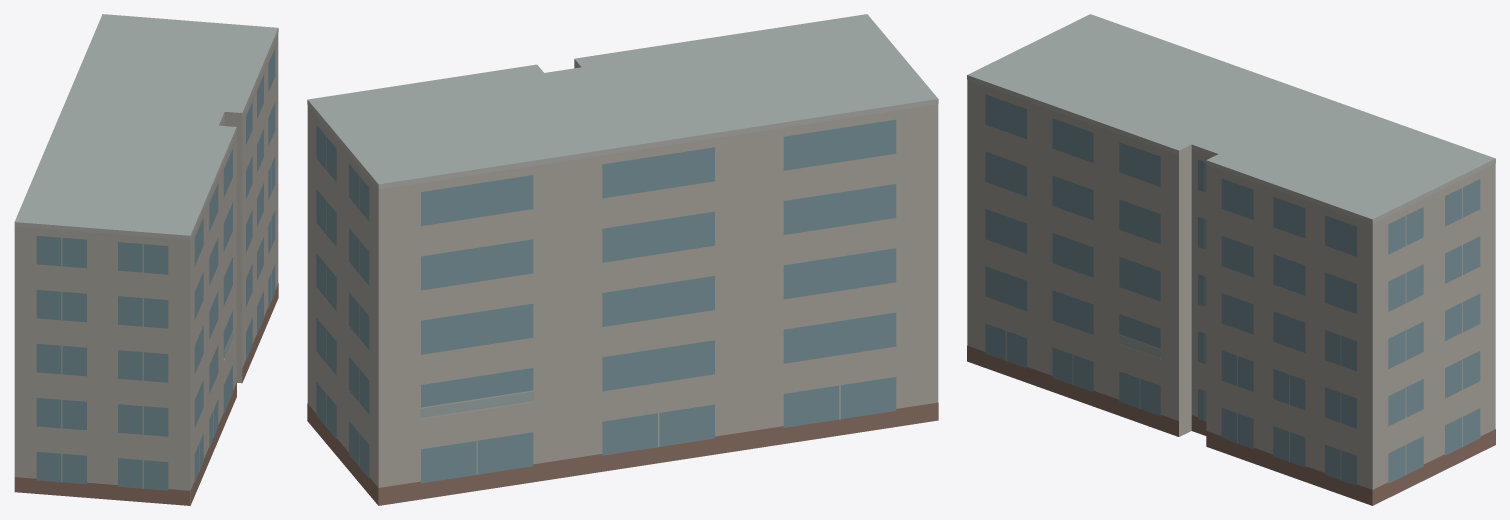
The model's file is survey-upis-32613061.glb.
The picture shows the model from 3 angles, left to right: view 1: azimuth 30°, elevation 25°; view 2: azimuth 150°, elevation 25°; view 3: azimuth 270°, elevation 25°; orthographic projection. The views are drawn at different scales.
Visible parts, largest first — view 1: survey-upis-32613061.tmp; view 2: survey-upis-32613061.tmp; view 3: survey-upis-32613061.tmp.
Boxes of the visible parts, <box> form: survey-upis-32613061.tmp: <box>14,14,278,505</box>; survey-upis-32613061.tmp: <box>307,14,938,505</box>; survey-upis-32613061.tmp: <box>967,14,1495,505</box>.
Size of the model in its own units: 23.08 by 15 by 25.1.
